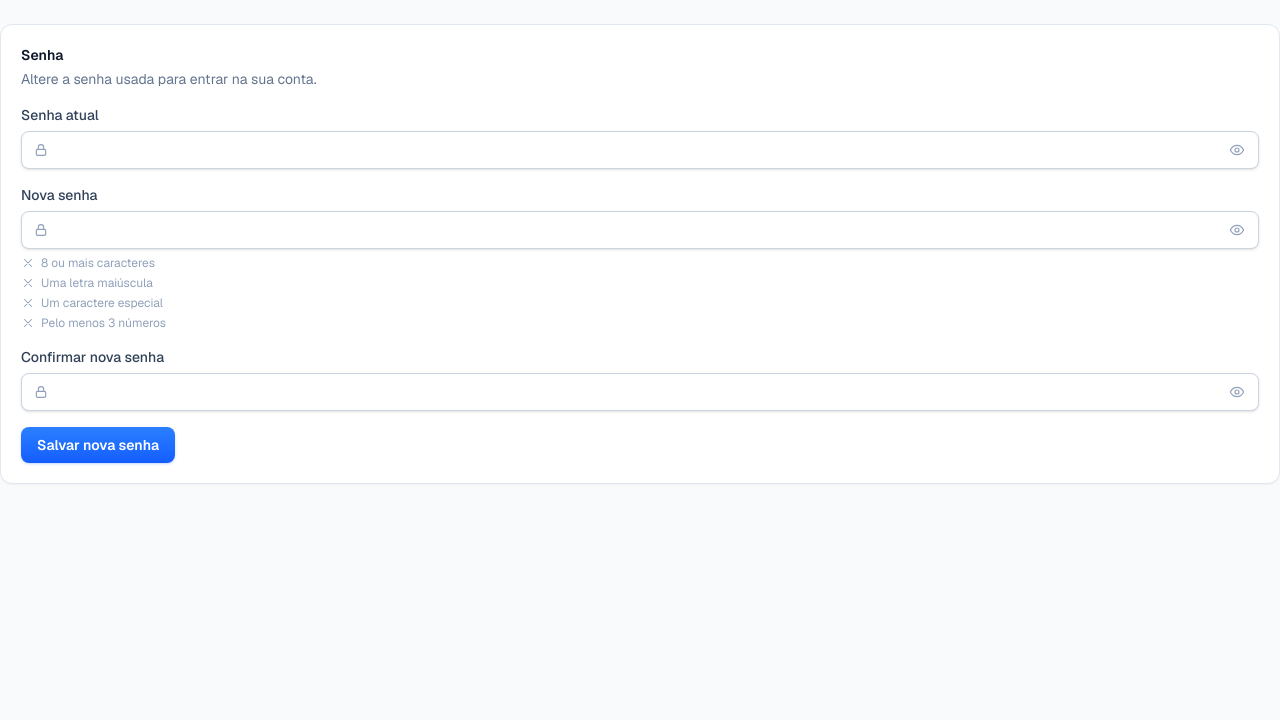
ChangePasswordCard › senha nova fraca mostra o erro do backend listando os requisitos faltando
Type "SenhaAntiga123!" into the password field labelled "Senha atual" at point(640, 150), box [21,131,1259,169]
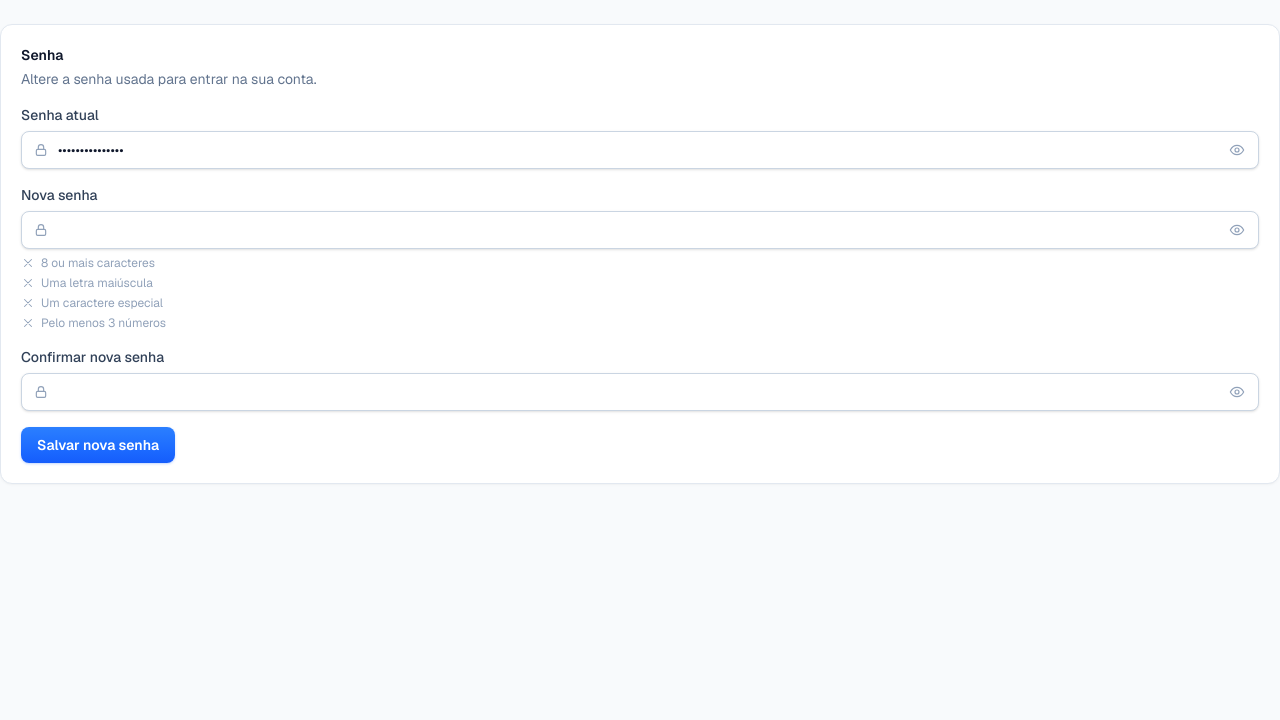
Type "senhafraca123" into the password field labelled "Nova senha" at point(640, 230), box [21,211,1259,249]
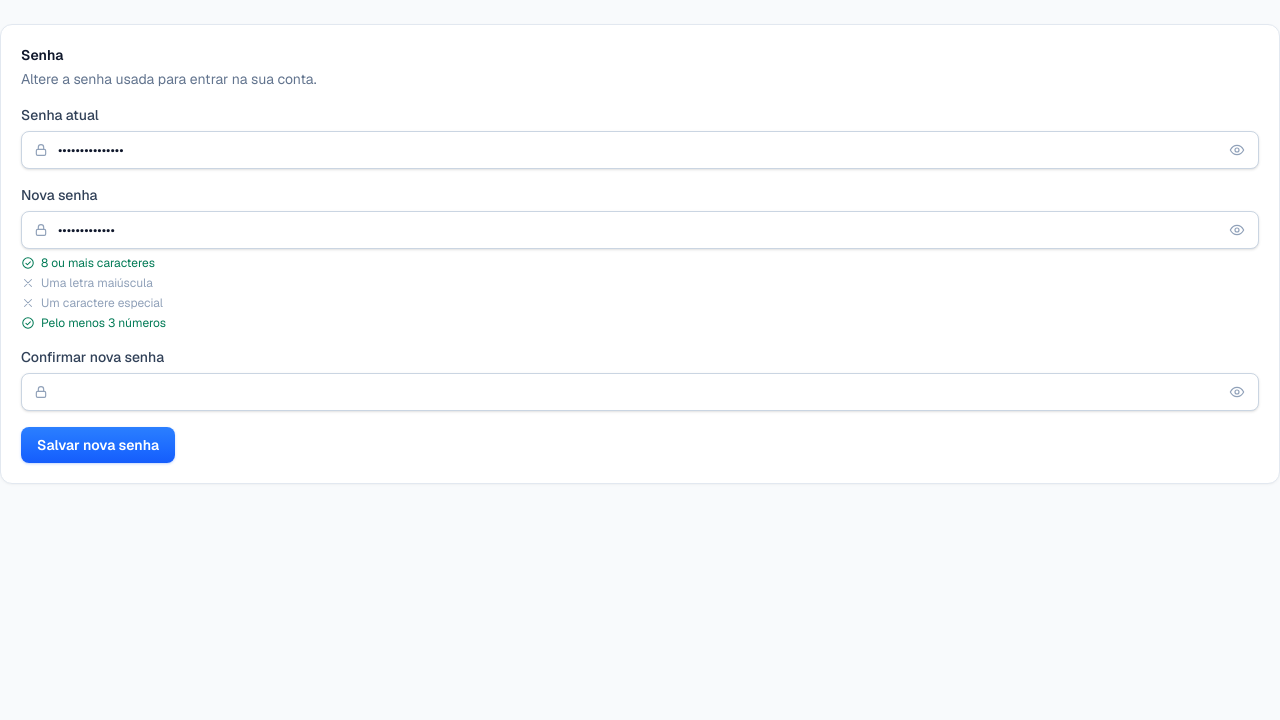
Type "senhafraca123" into the password field labelled "Confirmar nova senha" at point(640, 392), box [21,373,1259,411]
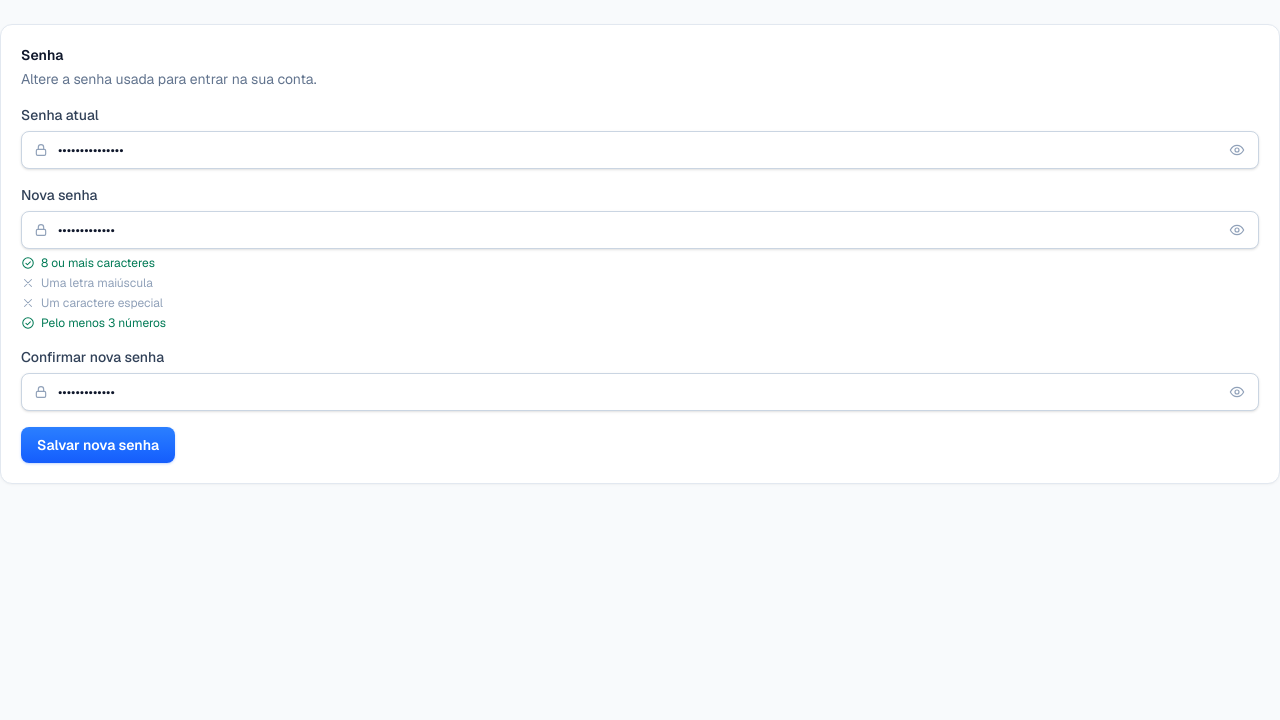
Click the button "Salvar nova senha" at point(98, 445), box [21,427,175,463]
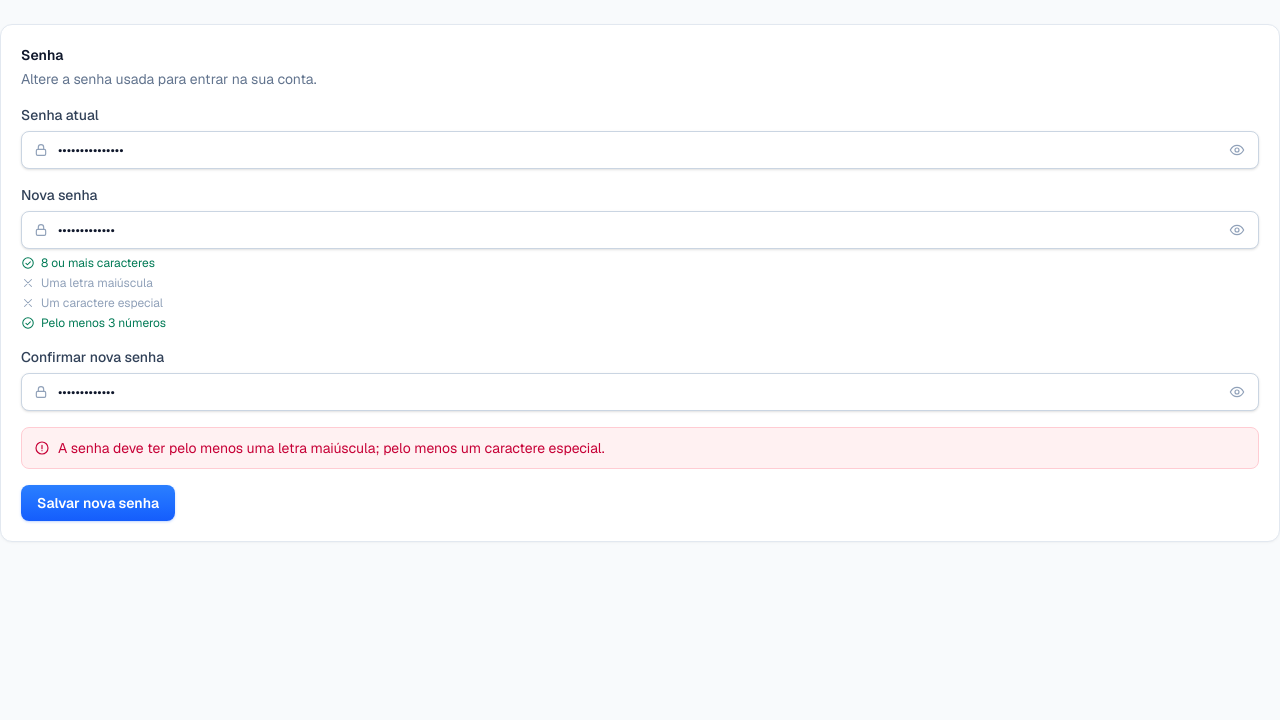
Expected: the text "A senha deve ter pelo menos uma letra maiúscula; pelo menos um caractere especial." is shown, [58,439,604,457]
